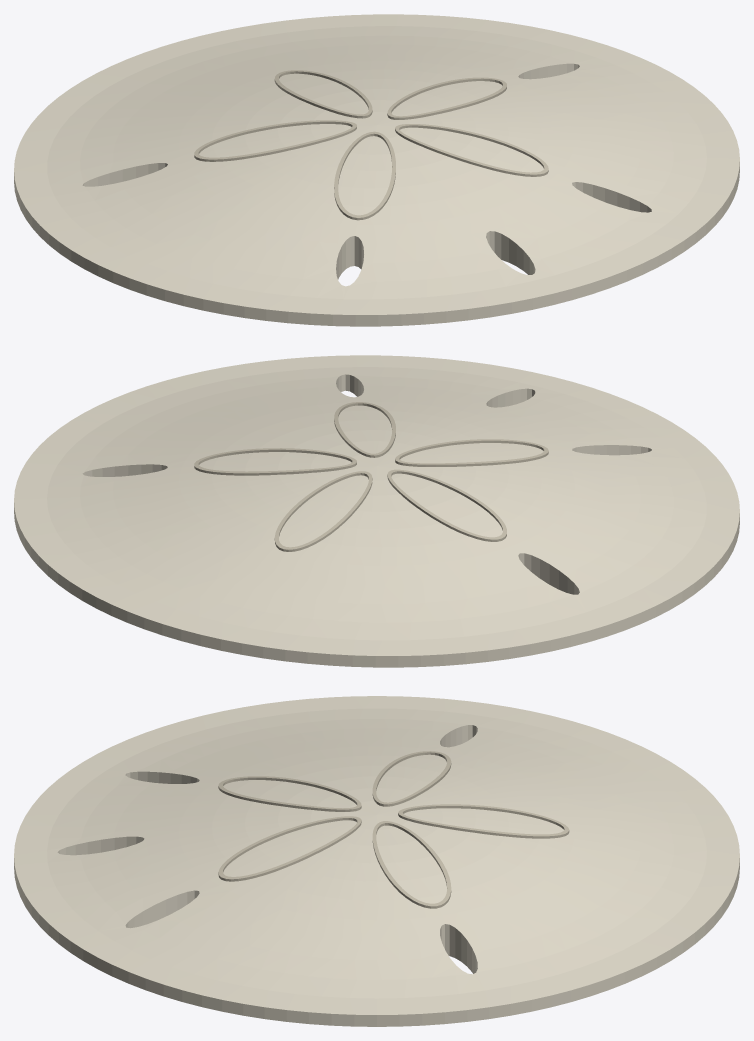
3 renders of one model, top to bottom at view 1: azimuth 30°, elevation 25°; view 2: azimuth 150°, elevation 25°; view 3: azimuth 270°, elevation 25°, orthographic. The views are drawn at different scales.
Parts seen in each view (by area): view 1: WholeLowDomeFiveLunuleTest, WholeSubtlePetaloidField_03, WholeSubtlePetaloidField_05, WholeSubtlePetaloidField_02, WholeSubtlePetaloidField_04, WholeSubtlePetaloidField_01; view 2: WholeLowDomeFiveLunuleTest, WholeSubtlePetaloidField_02, WholeSubtlePetaloidField_04, WholeSubtlePetaloidField_03, WholeSubtlePetaloidField_01, WholeSubtlePetaloidField_05; view 3: WholeLowDomeFiveLunuleTest, WholeSubtlePetaloidField_01, WholeSubtlePetaloidField_05, WholeSubtlePetaloidField_04, WholeSubtlePetaloidField_02, WholeSubtlePetaloidField_03.
Boxes of the visible parts, x1=… form: WholeLowDomeFiveLunuleTest: x1=14, y1=14, x2=739, y2=326; WholeSubtlePetaloidField_03: x1=194, y1=120, x2=356, y2=161; WholeSubtlePetaloidField_05: x1=395, y1=124, x2=548, y2=176; WholeSubtlePetaloidField_02: x1=387, y1=77, x2=506, y2=119; WholeSubtlePetaloidField_04: x1=334, y1=131, x2=395, y2=220; WholeSubtlePetaloidField_01: x1=274, y1=70, x2=372, y2=118; WholeLowDomeFiveLunuleTest: x1=14, y1=355, x2=739, y2=667; WholeSubtlePetaloidField_02: x1=194, y1=448, x2=356, y2=475; WholeSubtlePetaloidField_04: x1=395, y1=439, x2=548, y2=466; WholeSubtlePetaloidField_03: x1=387, y1=469, x2=506, y2=541; WholeSubtlePetaloidField_01: x1=274, y1=471, x2=372, y2=551; WholeSubtlePetaloidField_05: x1=334, y1=402, x2=395, y2=457; WholeLowDomeFiveLunuleTest: x1=14, y1=696, x2=739, y2=1026; WholeSubtlePetaloidField_01: x1=398, y1=804, x2=569, y2=838; WholeSubtlePetaloidField_05: x1=218, y1=816, x2=361, y2=881; WholeSubtlePetaloidField_04: x1=218, y1=776, x2=361, y2=811; WholeSubtlePetaloidField_02: x1=372, y1=821, x2=451, y2=908; WholeSubtlePetaloidField_03: x1=372, y1=751, x2=451, y2=806.
Size of the model in its own units: 0.104 by 0.00832 by 0.1.
